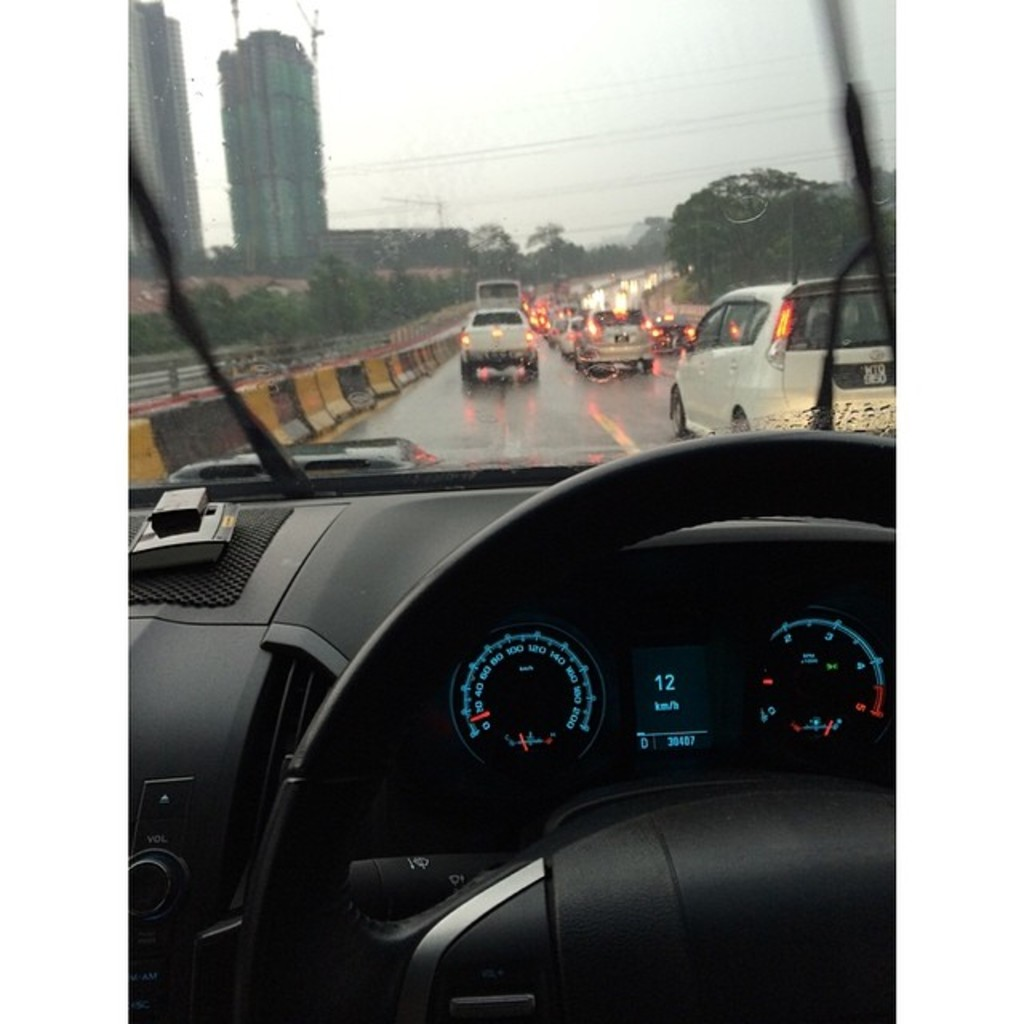Car: (51, 224, 929, 1024), (449, 305, 532, 377), (585, 304, 654, 374)
